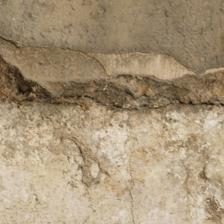Crack: (90, 79, 129, 140), (189, 201, 224, 224)
